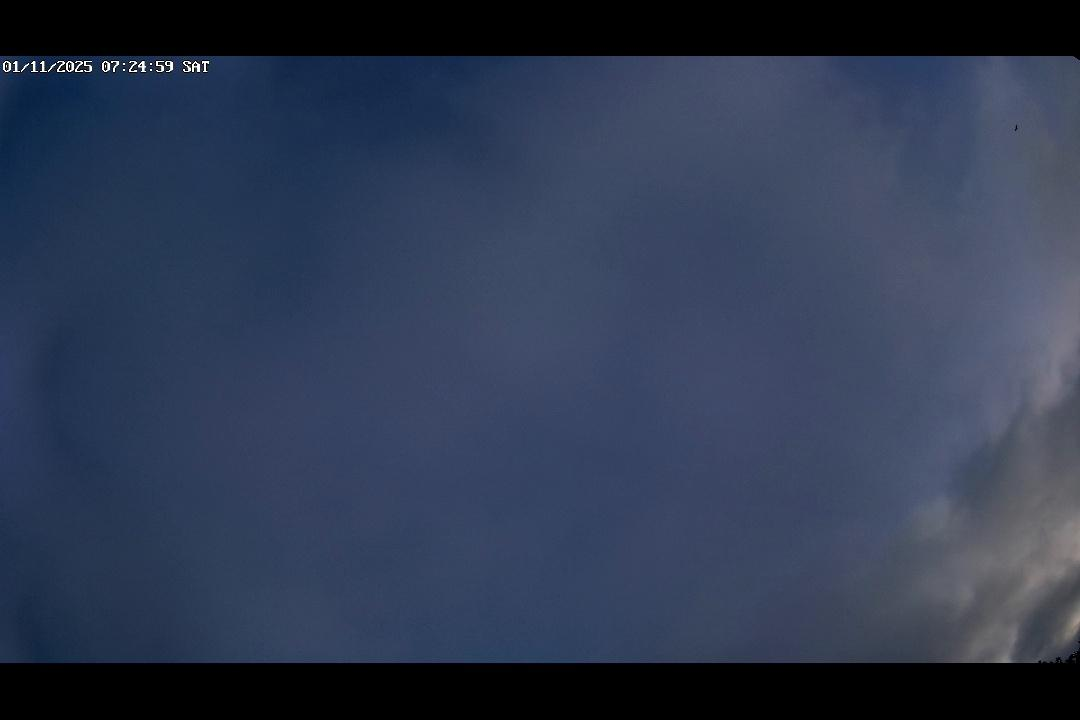WildLife: (1000, 122, 1031, 136)
